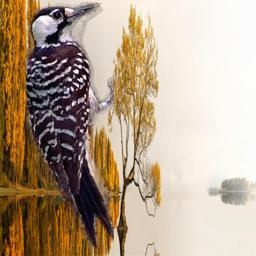Woodpecker: (26, 2, 114, 249)
